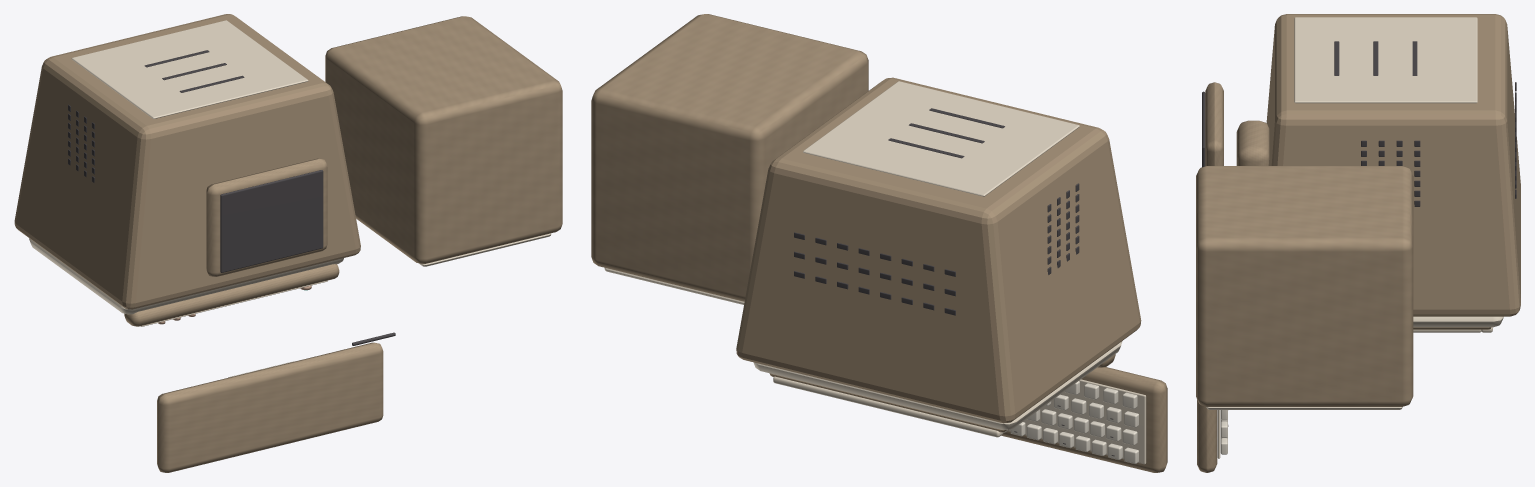
The picture shows the model from 3 angles, left to right: view 1: azimuth 30°, elevation 25°; view 2: azimuth 150°, elevation 25°; view 3: azimuth 270°, elevation 25°; orthographic projection. The views are drawn at different scales.
Visible parts, largest first — view 1: C02_Batched_C02_AgedIvoryABS, C02_Batched_C02_SatinIvoryEdge, C02_Batched_C02_DarkVentGraphite; view 2: C02_Batched_C02_AgedIvoryABS, C02_Batched_C02_SatinIvoryEdge, C02_Batched_C02_KeycapWarmIvory, C02_Batched_C02_DarkVentGraphite; view 3: C02_Batched_C02_AgedIvoryABS, C02_Batched_C02_SatinIvoryEdge, C02_Batched_C02_DarkVentGraphite, C02_Batched_C02_KeycapWarmIvory.
Part boxes in pixels (<box>): C02_Batched_C02_AgedIvoryABS: <box>14,14,562,472</box>; C02_Batched_C02_SatinIvoryEdge: <box>29,20,551,326</box>; C02_Batched_C02_DarkVentGraphite: <box>68,50,395,345</box>; C02_Batched_C02_AgedIvoryABS: <box>591,14,1167,472</box>; C02_Batched_C02_SatinIvoryEdge: <box>604,81,1146,464</box>; C02_Batched_C02_KeycapWarmIvory: <box>1007,381,1138,463</box>; C02_Batched_C02_DarkVentGraphite: <box>794,108,1079,315</box>; C02_Batched_C02_AgedIvoryABS: <box>1196,14,1520,472</box>; C02_Batched_C02_SatinIvoryEdge: <box>1206,17,1503,458</box>; C02_Batched_C02_DarkVentGraphite: <box>1202,41,1516,206</box>; C02_Batched_C02_KeycapWarmIvory: <box>1220,410,1227,454</box>.
Bounding box in the file's own units: 3.11 × 2.32 × 1.92.
Materials: 9 (1 with a texture image).
